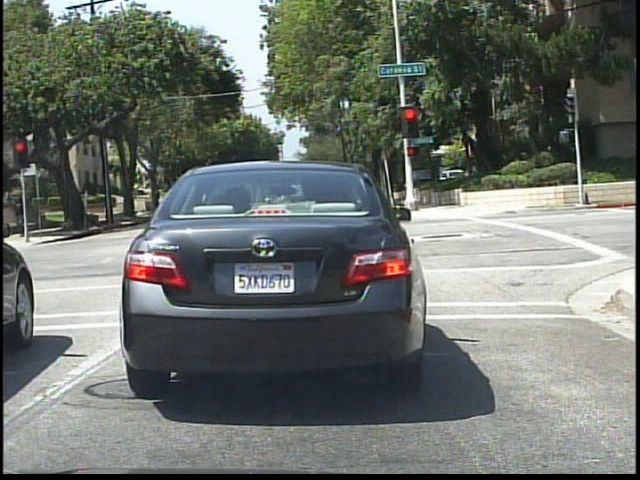person: (12, 188, 30, 241)
